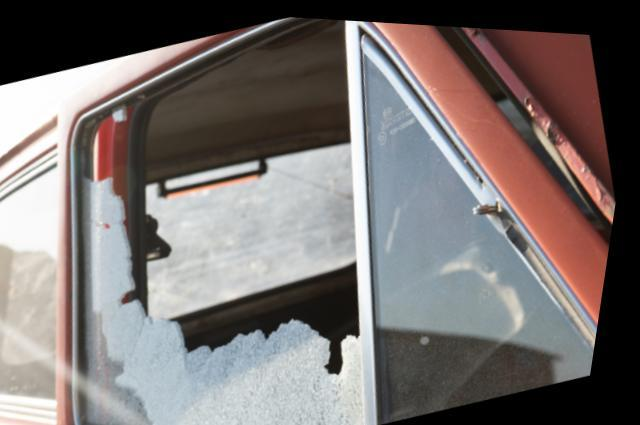glass shatter: (84, 14, 376, 425)
